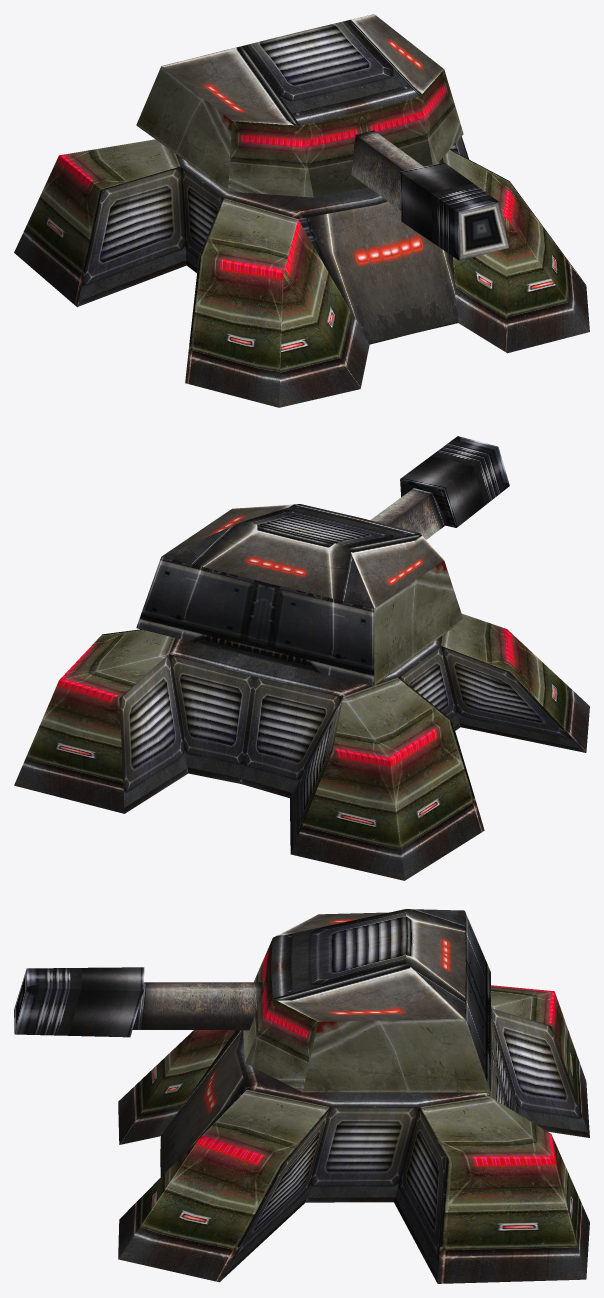
The model's file is turret-17.DAE.
The picture shows the model from 3 angles, top to bottom: view 1: azimuth 30°, elevation 25°; view 2: azimuth 150°, elevation 25°; view 3: azimuth 270°, elevation 25°; orthographic projection. The views are drawn at different scales.
Parts seen in each view (by area): view 1: turret-17; view 2: turret-17; view 3: turret-17.
Part boxes in pixels (left/top/right/bottom): turret-17: left=14, top=14, right=589, bottom=407; turret-17: left=14, top=436, right=589, bottom=880; turret-17: left=14, top=909, right=589, bottom=1283.
Size of the model in its own units: 3.55 by 4.18 by 1.98.
